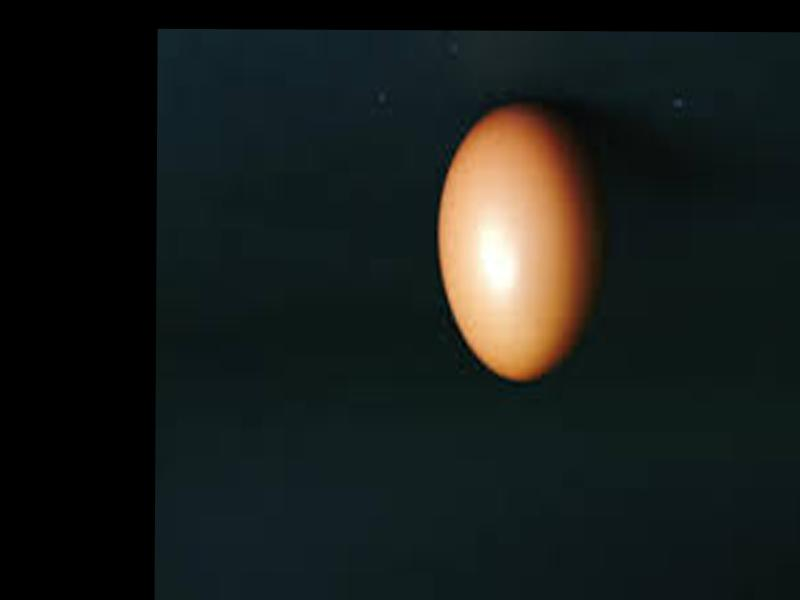Eggs: (439, 101, 601, 380)
